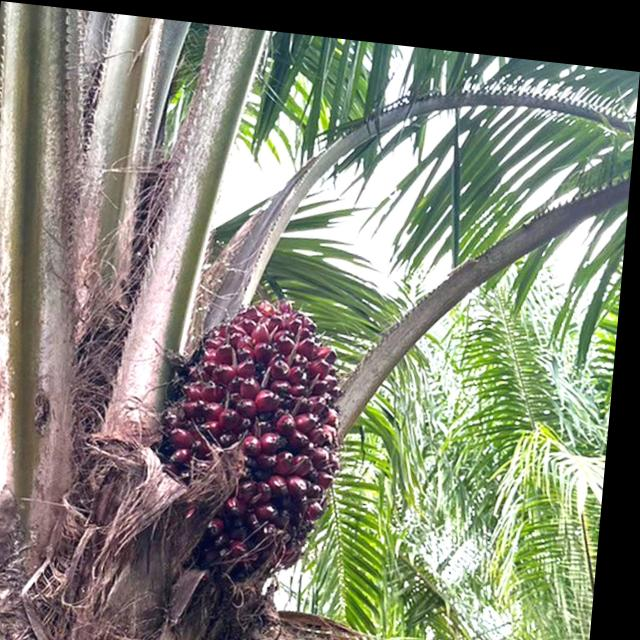ripe: (153, 261, 374, 581)
